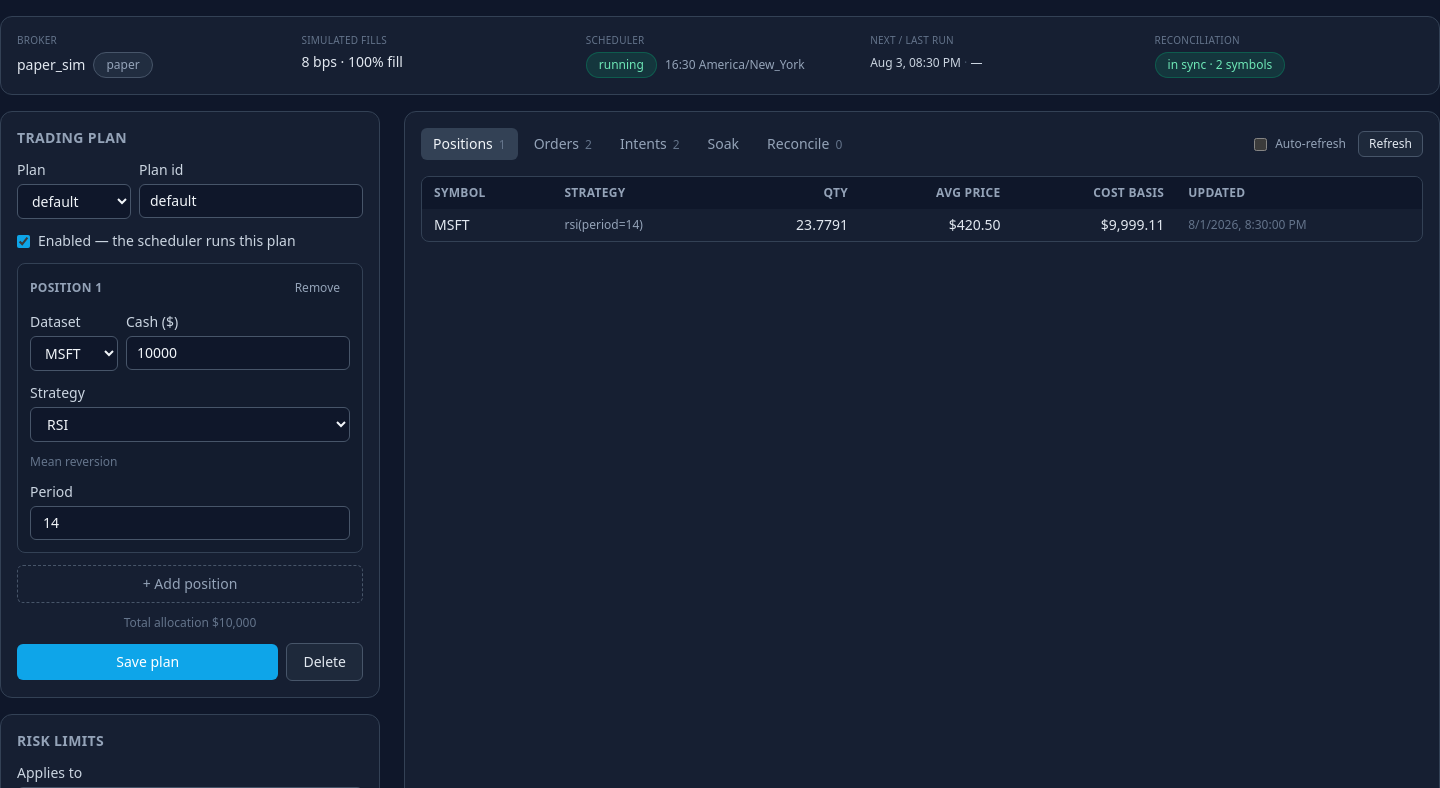
TradingConsole › switches to the orders view
Expected: the text "paper_sim" is shown, [17,55,85,75]
Click the button "Orders2" at (563, 144), box [522,128,604,160]
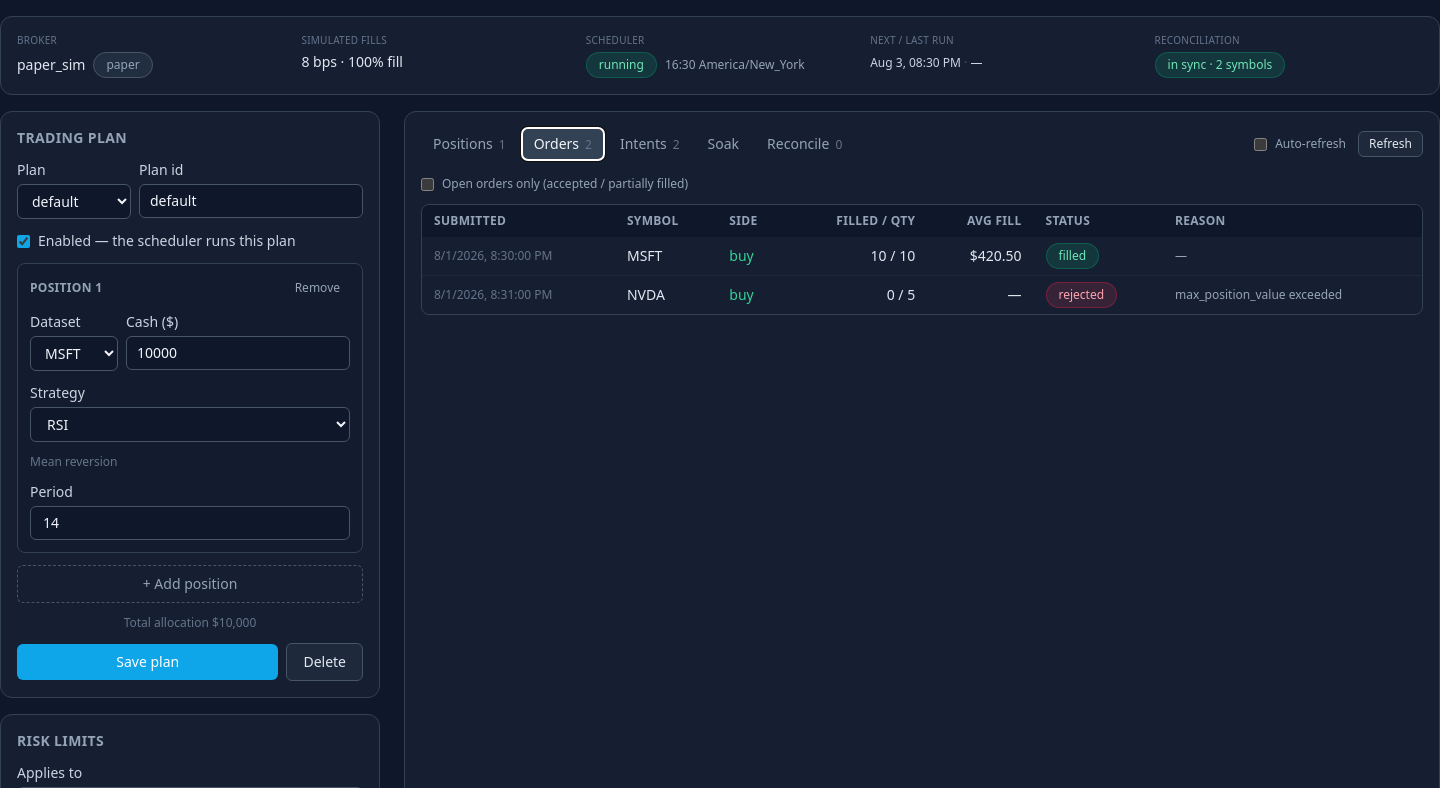
Now the text "max_position_value exceeded" is shown, box [1163,276,1422,314]
